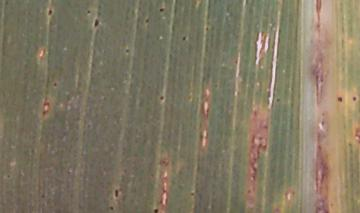tarspot: (348, 92, 360, 105), (44, 5, 55, 19), (155, 4, 169, 15), (90, 16, 101, 29), (334, 94, 347, 105), (105, 202, 119, 212), (50, 77, 60, 91), (179, 32, 190, 44), (156, 92, 168, 103), (112, 186, 121, 200), (123, 43, 132, 57), (142, 14, 152, 26), (150, 206, 164, 213)
